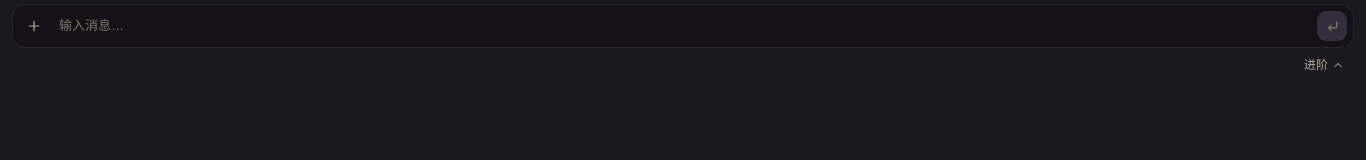
Test case: ChatInputBox · @ 补全接线 › @ 时其它已注册工作区排在前面（标「项目」），回车得到绝对路径芯片
Type "@" into the text box with class "chat-input" at (683, 26), box [55, 11, 1311, 41]
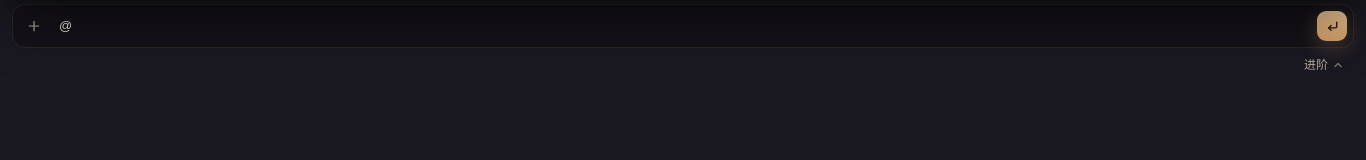
Press Enter in the text box with class "chat-input", box [55, 11, 1311, 41]
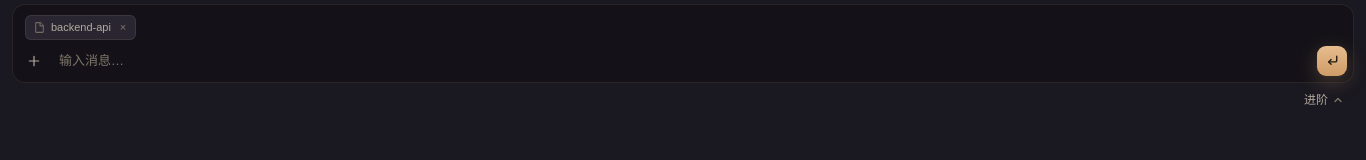
Check: the text with class "mention-chip-name" reads "backend-api", box [51, 21, 111, 33]
